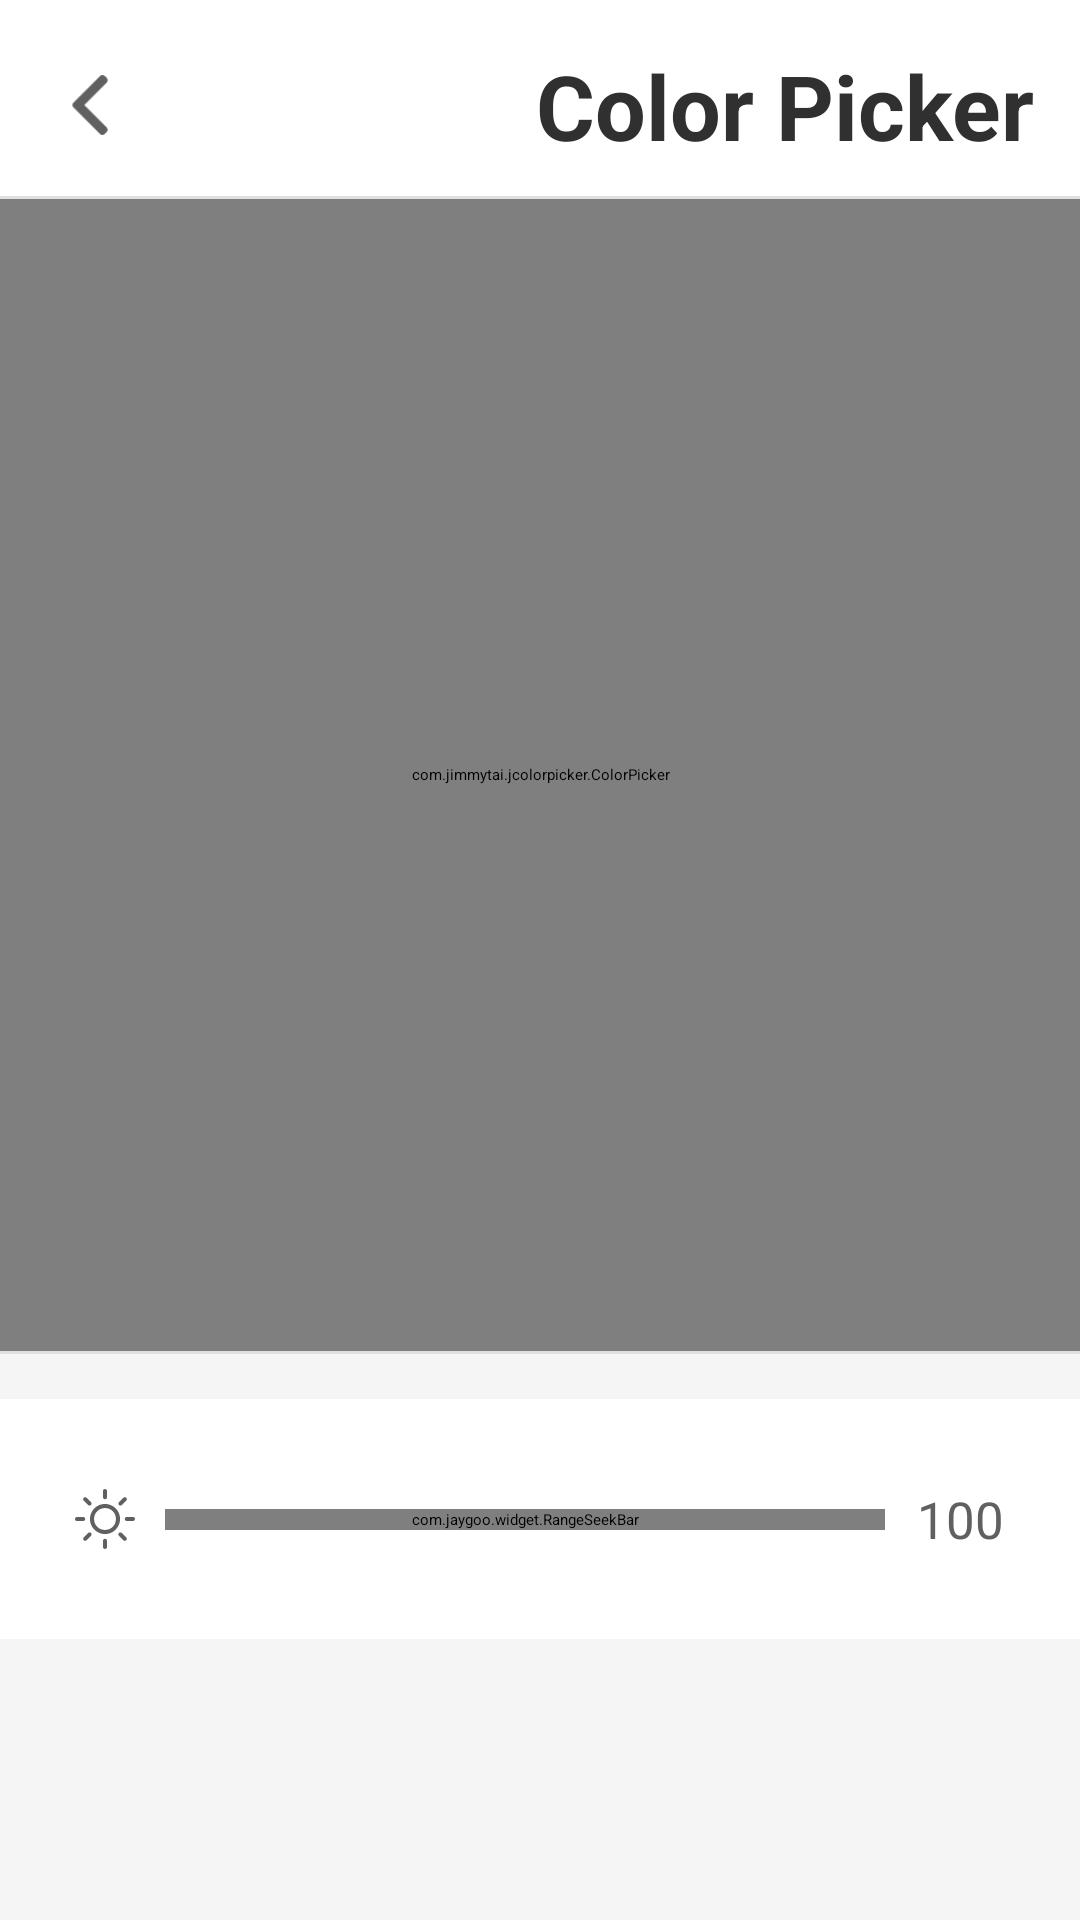

Point at icon controls on the screen. Image size 1080×1920, points as [x,y].
arrow left: [90,105]
sun: [105,1519]
